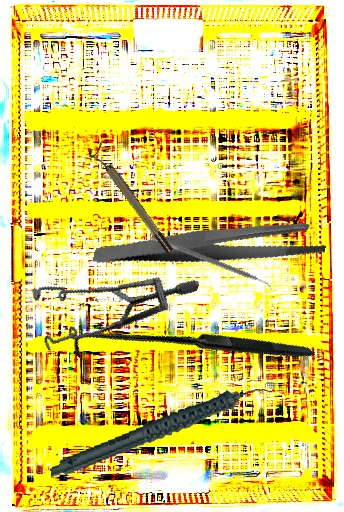Dressing Forceps: (92, 184, 330, 306)
Fixation Ring: (86, 142, 176, 259)
Handpiece: (42, 384, 280, 478)
Hook Surgical: (67, 226, 317, 476)
Spatula Surgical: (148, 234, 276, 293)
Speculum: (15, 227, 200, 392)
